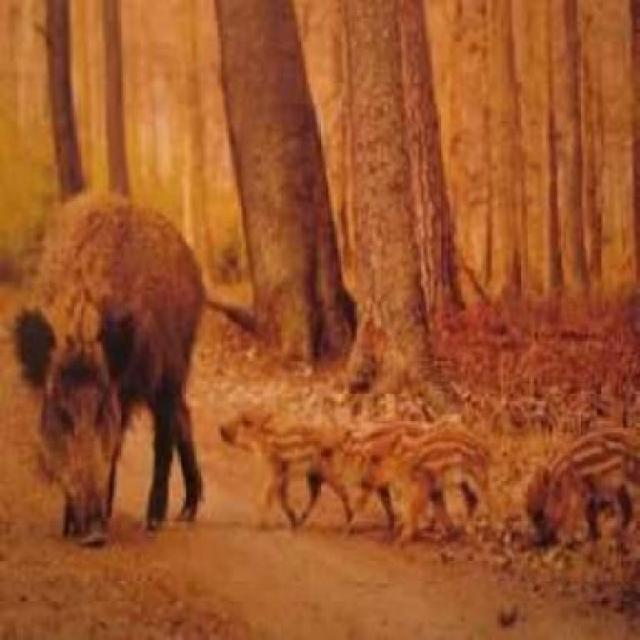pig: (5, 171, 207, 573), (215, 370, 331, 554), (526, 420, 639, 554), (359, 420, 486, 522), (303, 420, 345, 510)
